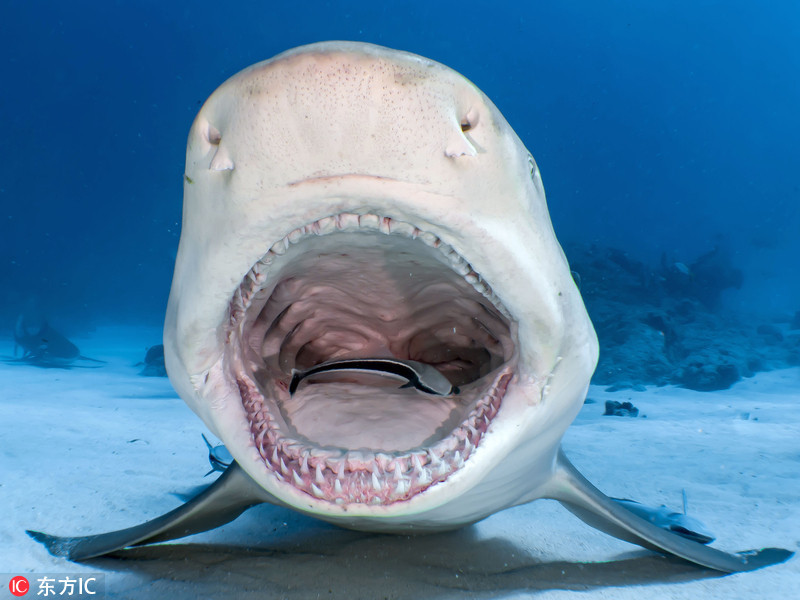shark: (23, 21, 756, 586)
